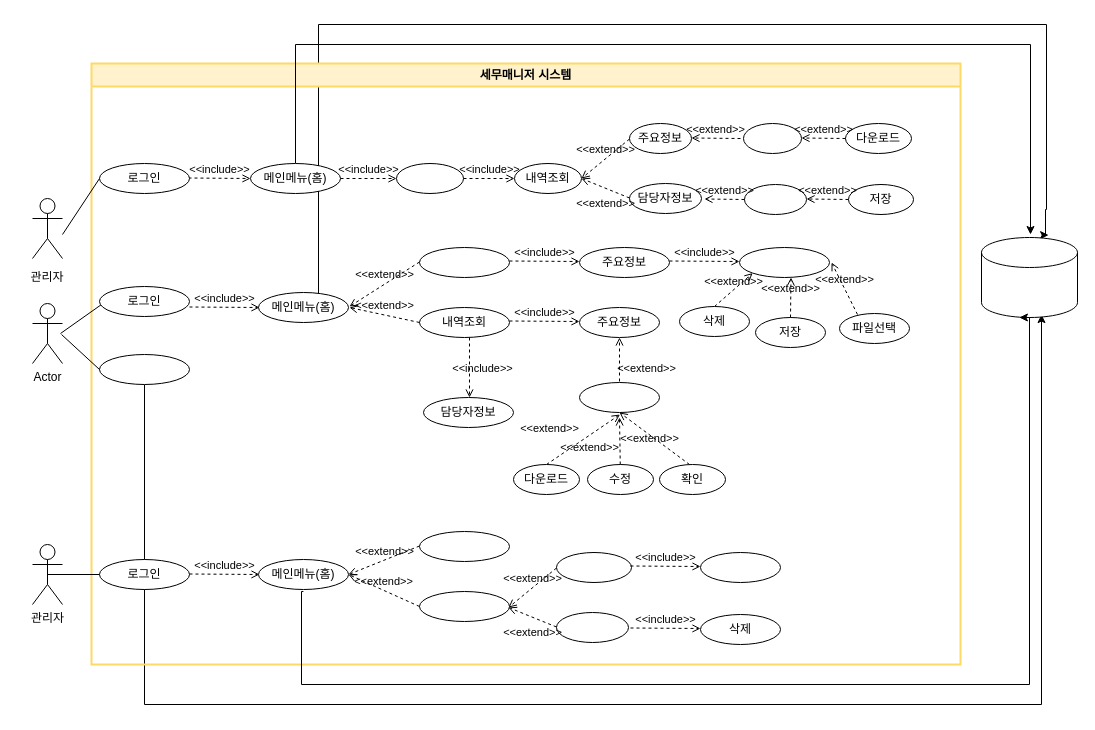
The diagram is 1095 pixels wide and 730 high, and some of its shapes have lost their labels. Each missing label, with the centre of its shape:
DB: the point at 1029,277
담당자목록: the point at 464,606
담당자삭제: the point at 592,627
담당자추가: the point at 594,567
문서조회: the point at 772,138
사번선택: the point at 775,199
사용자목록: the point at 464,546
신고의뢰: the point at 464,262
의뢰내역: the point at 430,178
자료목록: the point at 619,397
자료제출: the point at 784,262
추가: the point at 740,567
회원가입: the point at 144,369
